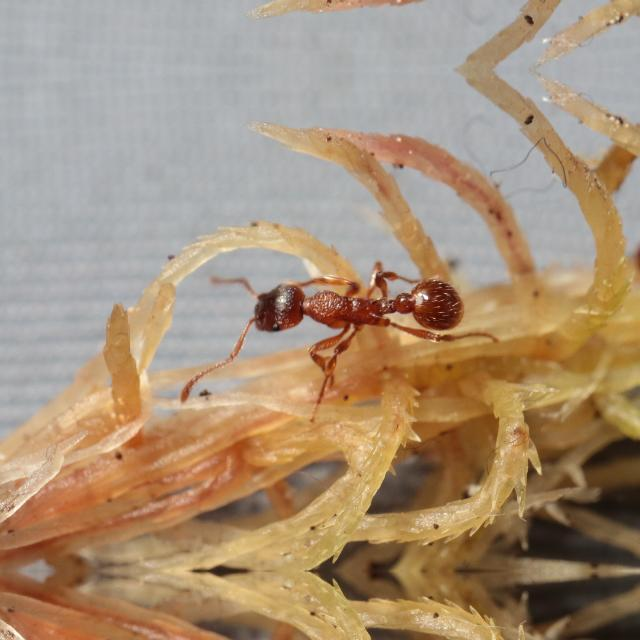Myrmica: (215, 242, 477, 362)
